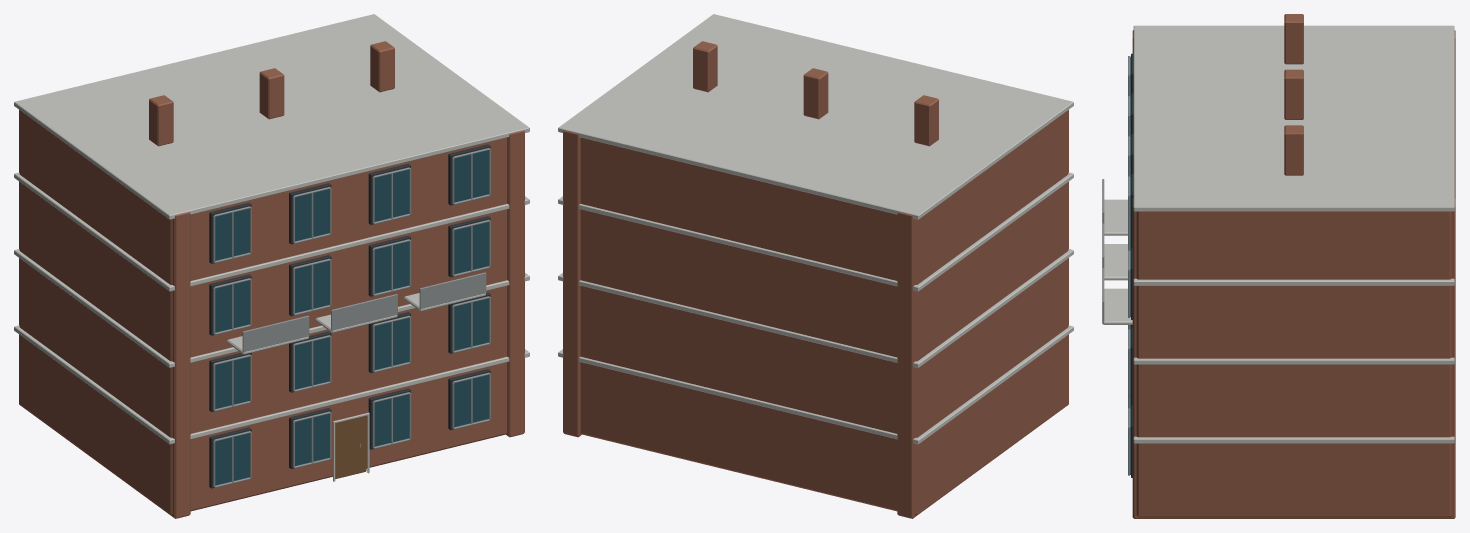
Rendered from Old_Town.glb.
3 views of the same model, side by side, from view 1: azimuth 30°, elevation 25°; view 2: azimuth 150°, elevation 25°; view 3: azimuth 270°, elevation 25° (orthographic). The views are drawn at different scales.
Parts seen in each view (by area): view 1: Brick_Weathered, Trim, Glass, Metal, Metal_Dark, Wood, Concrete_Light; view 2: Brick_Weathered, Trim; view 3: Brick_Weathered, Trim, Concrete_Light, Metal, Metal_Dark, Glass.
Boxes of the visible parts, <box> form: Brick_Weathered: <box>19,41,524,518</box>; Trim: <box>14,14,529,481</box>; Glass: <box>213,150,488,485</box>; Metal: <box>213,148,490,487</box>; Metal_Dark: <box>209,144,490,488</box>; Wood: <box>335,415,366,478</box>; Concrete_Light: <box>227,293,485,354</box>; Brick_Weathered: <box>563,41,1068,518</box>; Trim: <box>558,14,1073,444</box>; Brick_Weathered: <box>1132,14,1455,518</box>; Trim: <box>1133,25,1454,443</box>; Concrete_Light: <box>1102,199,1132,324</box>; Metal: <box>1102,56,1130,475</box>; Metal_Dark: <box>1131,53,1133,477</box>; Glass: <box>1130,56,1130,474</box>.
Size of the model in its own units: 16.3 by 14.97 by 13.4.
